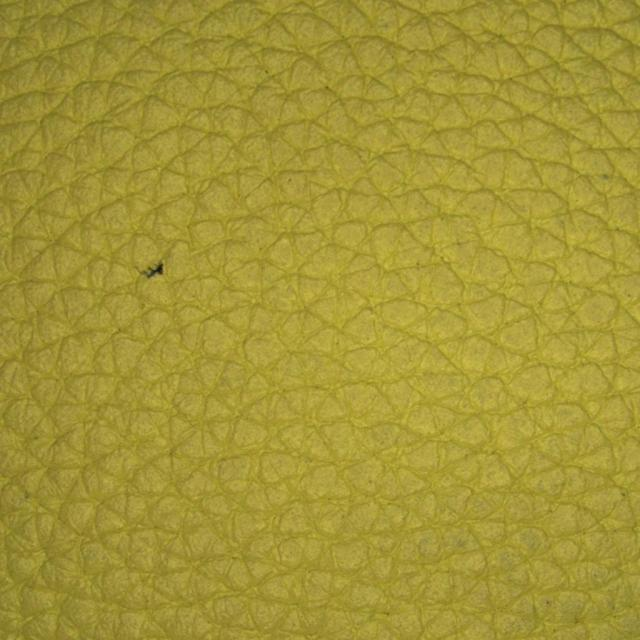Hole: (68, 196, 264, 360)
